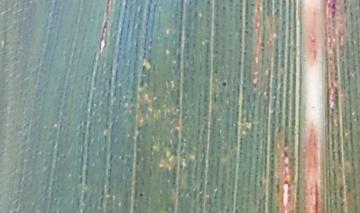tarspot: (137, 191, 145, 199), (221, 80, 228, 87)
